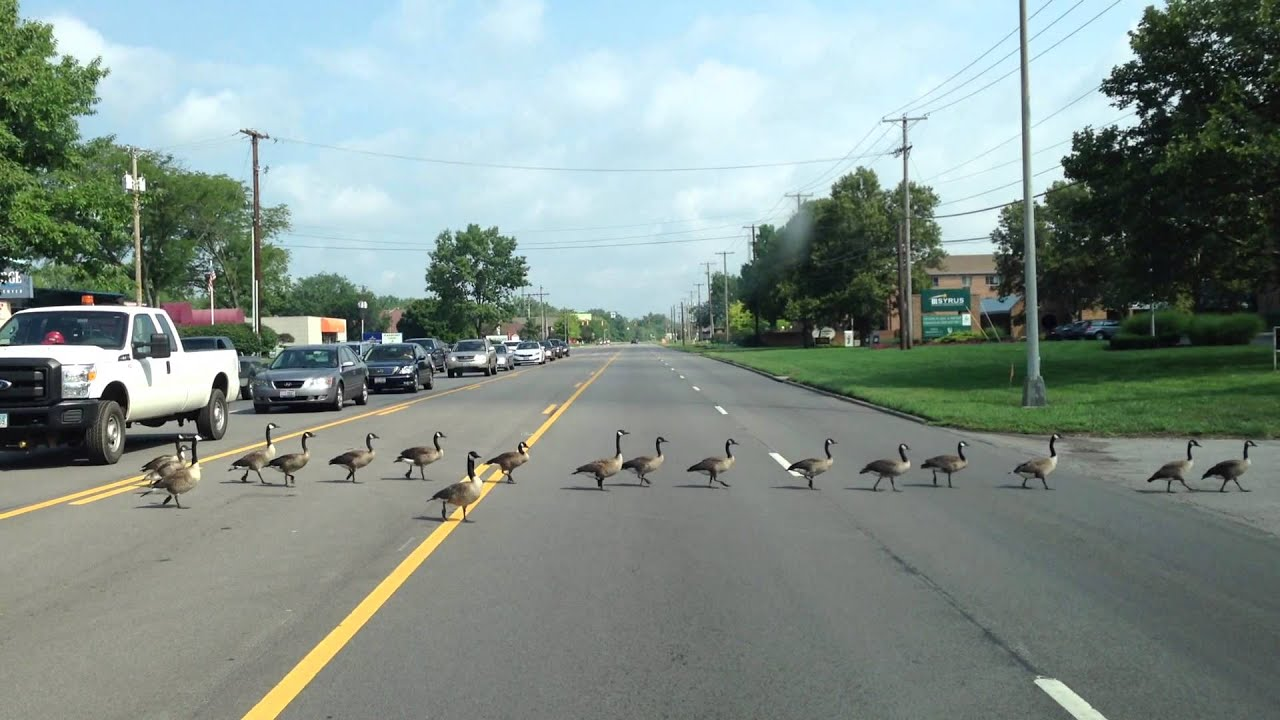goose: (144, 434, 208, 512), (423, 448, 486, 526), (564, 424, 632, 494), (227, 419, 280, 485), (777, 437, 840, 492), (1008, 431, 1064, 491), (1199, 438, 1259, 493), (682, 435, 743, 489), (1145, 438, 1203, 494), (262, 428, 316, 488), (324, 432, 381, 484), (857, 442, 914, 493), (391, 431, 448, 480), (919, 439, 972, 489), (619, 435, 669, 485), (482, 440, 535, 485), (133, 432, 187, 470), (147, 444, 191, 480)
